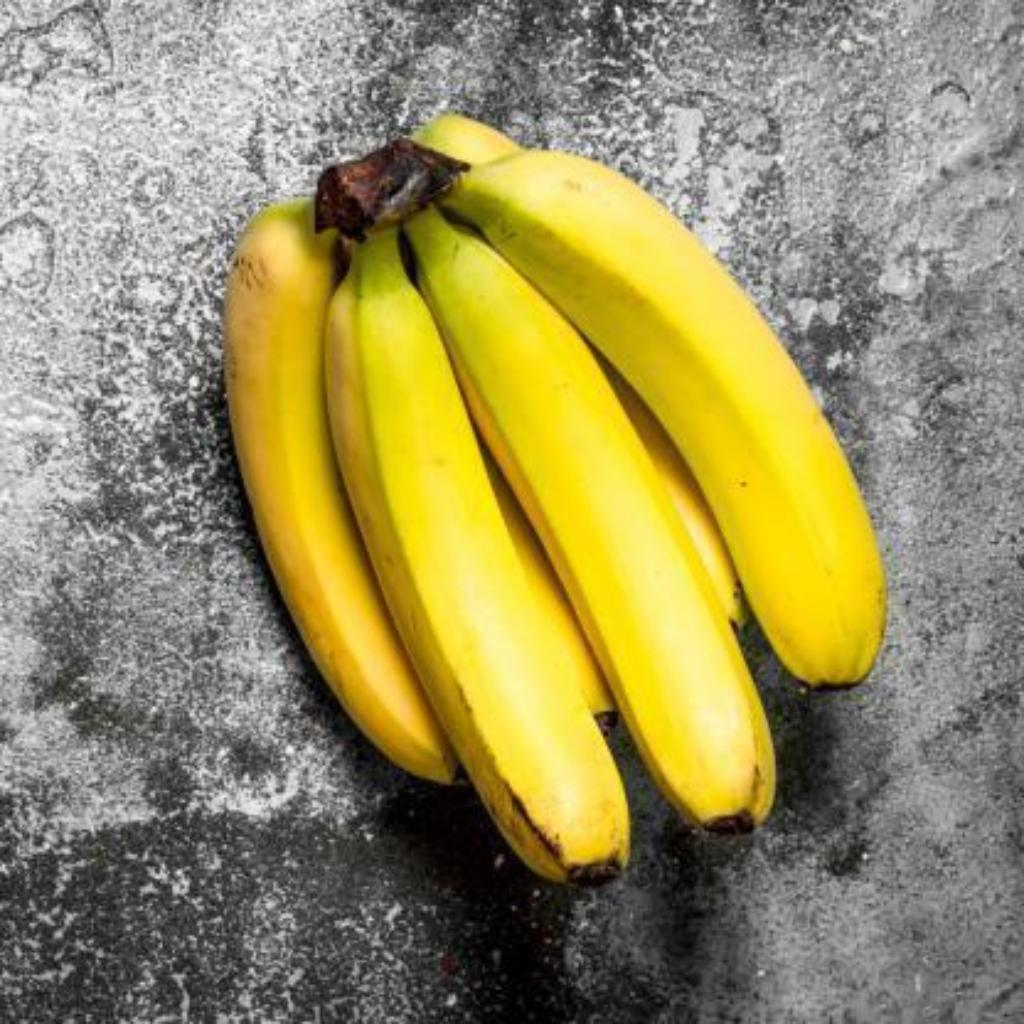banana: (322, 229, 633, 889), (222, 165, 485, 779)
